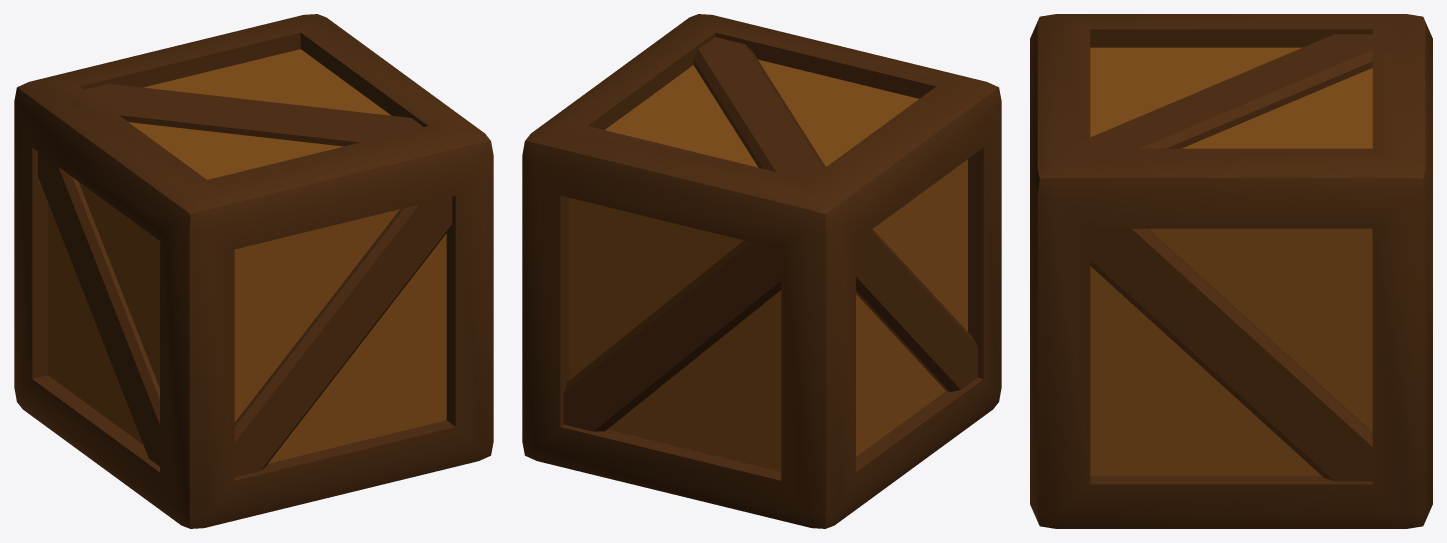
Rendered from Crate.obj.
3 views of the same model, side by side, from view 1: azimuth 30°, elevation 25°; view 2: azimuth 150°, elevation 25°; view 3: azimuth 270°, elevation 25° (orthographic). The views are drawn at different scales.
Parts seen in each view (by area): view 1: Crate_Cube.038; view 2: Crate_Cube.038; view 3: Crate_Cube.038.
Boxes of the visible parts, x1=… form: Crate_Cube.038: x1=14, y1=14, x2=493, y2=528; Crate_Cube.038: x1=522, y1=14, x2=1001, y2=528; Crate_Cube.038: x1=1030, y1=14, x2=1432, y2=528.
Bounding box in the file's own units: 0.7898 × 0.7898 × 0.7898.
